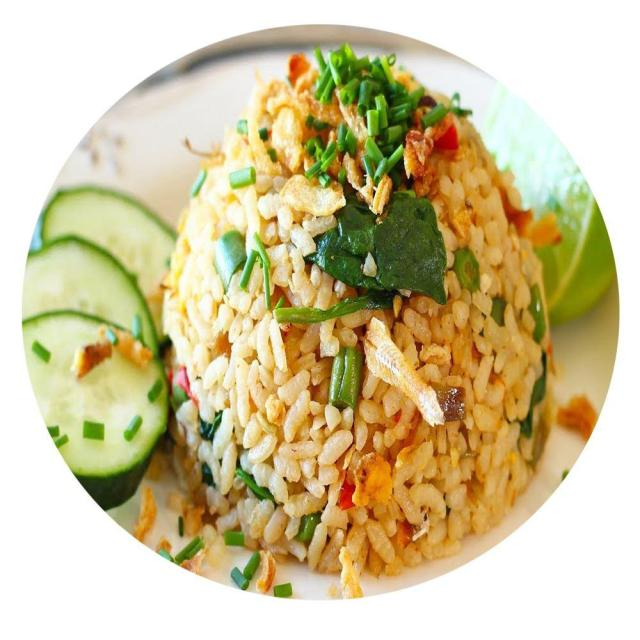Nasi Goreng: (157, 42, 557, 596)
